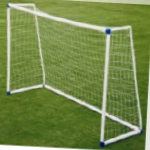goals: (4, 1, 144, 146)
